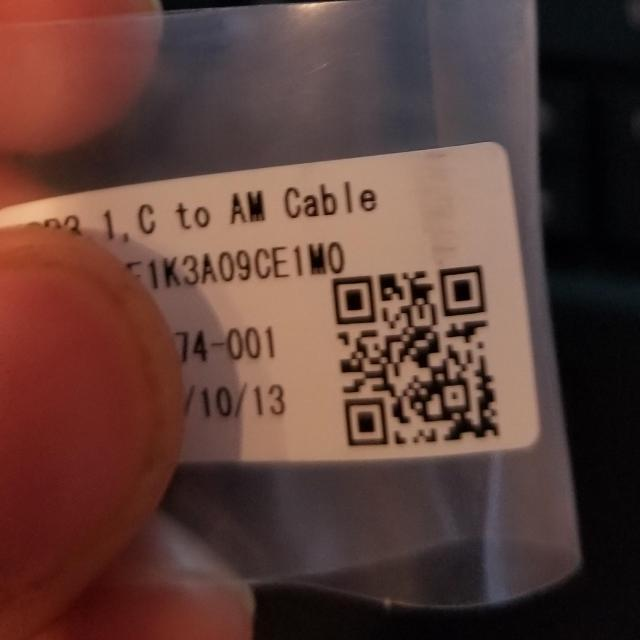QR_CODE: (321, 246, 511, 460)
